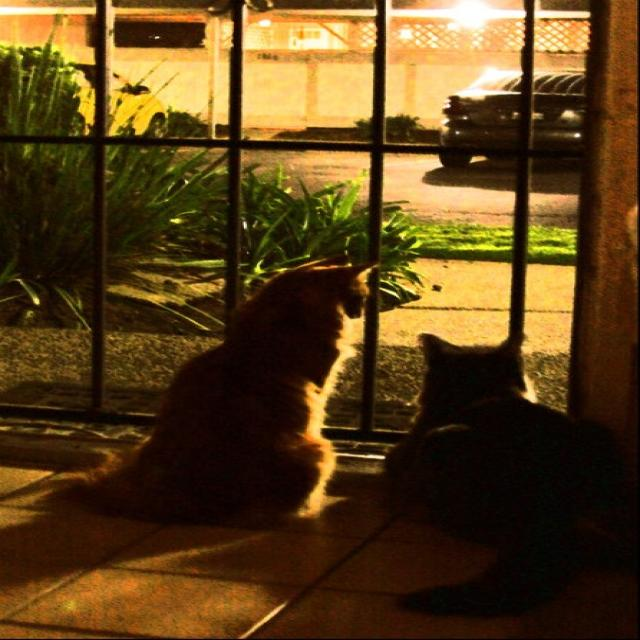Cat: (44, 218, 385, 527), (404, 331, 603, 612)
